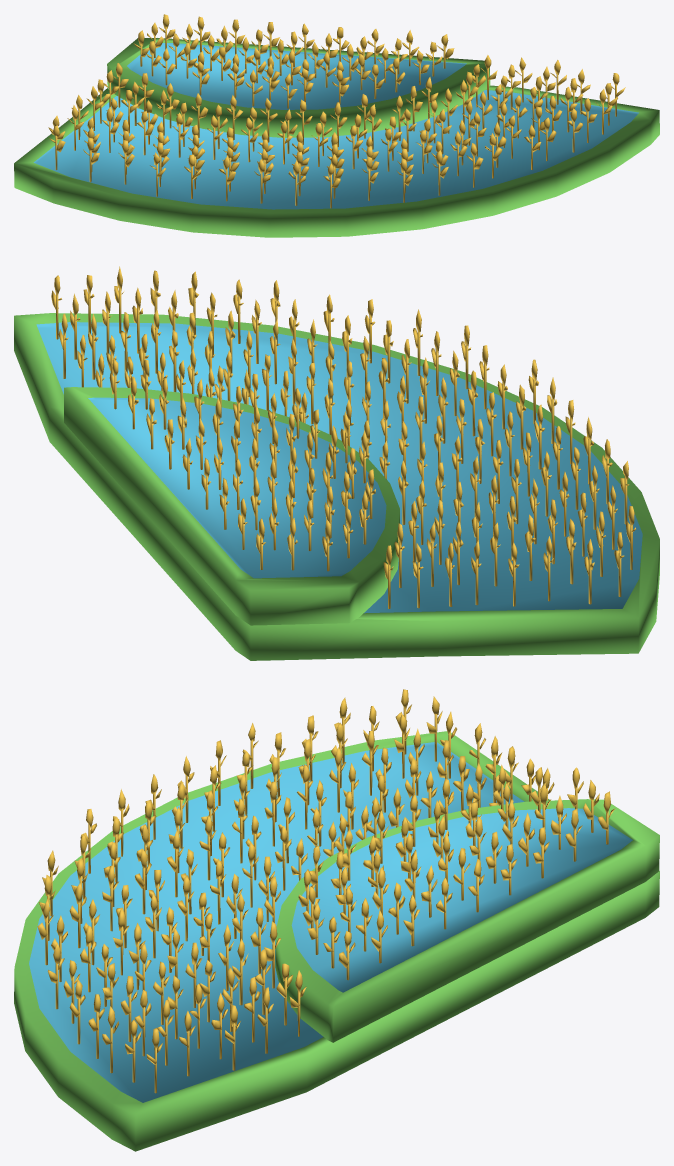
3 renders of one model, top to bottom at view 1: azimuth 30°, elevation 25°; view 2: azimuth 150°, elevation 25°; view 3: azimuth 270°, elevation 25°, orthographic. The views are drawn at different scales.
Parts seen in each view (by area): view 1: 円017_1, 円017_2, 円017; view 2: 円017_1, 円017, 円017_2; view 3: 円017_1, 円017, 円017_2.
Boxes of the visible parts, x1,y1,x2,y2 form: 円017_1: [33, 43, 638, 209]; 円017_2: [48, 14, 625, 208]; 円017: [14, 38, 659, 237]; 円017_1: [36, 322, 642, 613]; 円017: [14, 313, 659, 660]; 円017_2: [51, 266, 636, 608]; 円017_1: [29, 742, 632, 1102]; 円017: [14, 731, 659, 1151]; 円017_2: [37, 689, 615, 1093].
Size of the model in its own units: 15.98 by 2.42 by 11.33.
